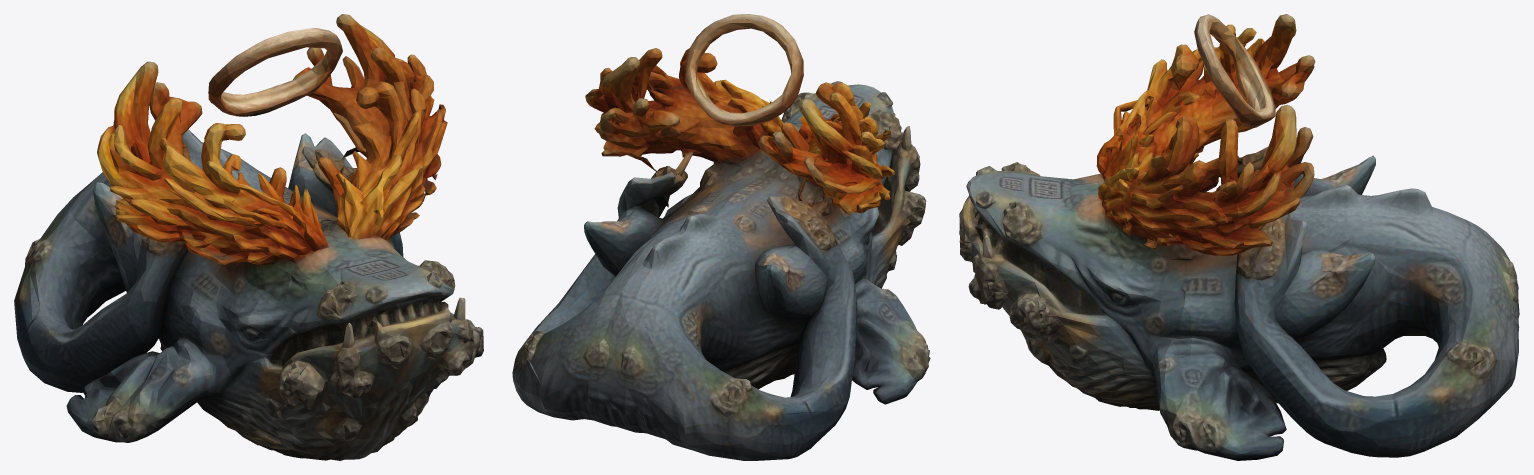
Rendered from sunkenhorn__hearthDeepStag.glb.
The picture shows the model from 3 angles, left to right: view 1: azimuth 30°, elevation 25°; view 2: azimuth 150°, elevation 25°; view 3: azimuth 270°, elevation 25°; orthographic projection. The views are drawn at different scales.
Visible parts, largest first — view 1: world; view 2: world; view 3: world.
Part boxes in pixels (box(x1,y1,x2,y2)): world: box(14, 14, 483, 460); world: box(512, 14, 930, 460); world: box(959, 14, 1519, 460).
Bounding box in the file's own units: 0.7522 × 0.7365 × 0.9964.
Materials: 1 (1 with a texture image).
